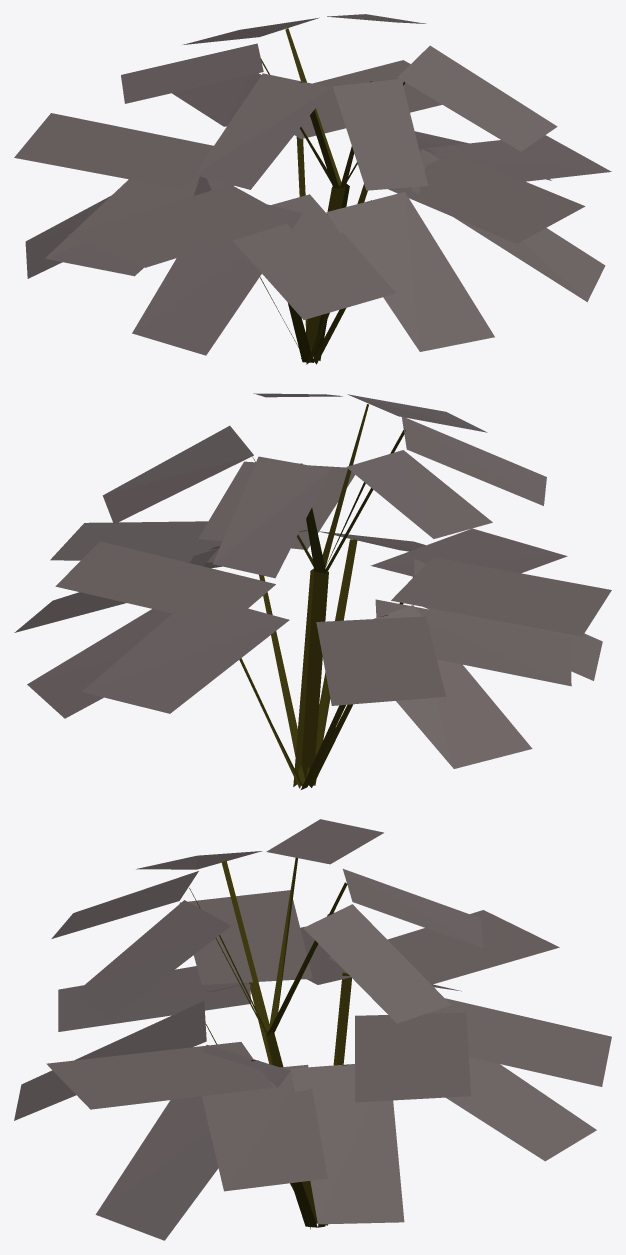
File: obj_plant_5_0.obj
3 renders of one model, top to bottom at view 1: azimuth 30°, elevation 25°; view 2: azimuth 150°, elevation 25°; view 3: azimuth 270°, elevation 25°, orthographic. The views are drawn at different scales.
Bounding box in the file's own units: 1.98 × 1.19 × 1.89.
